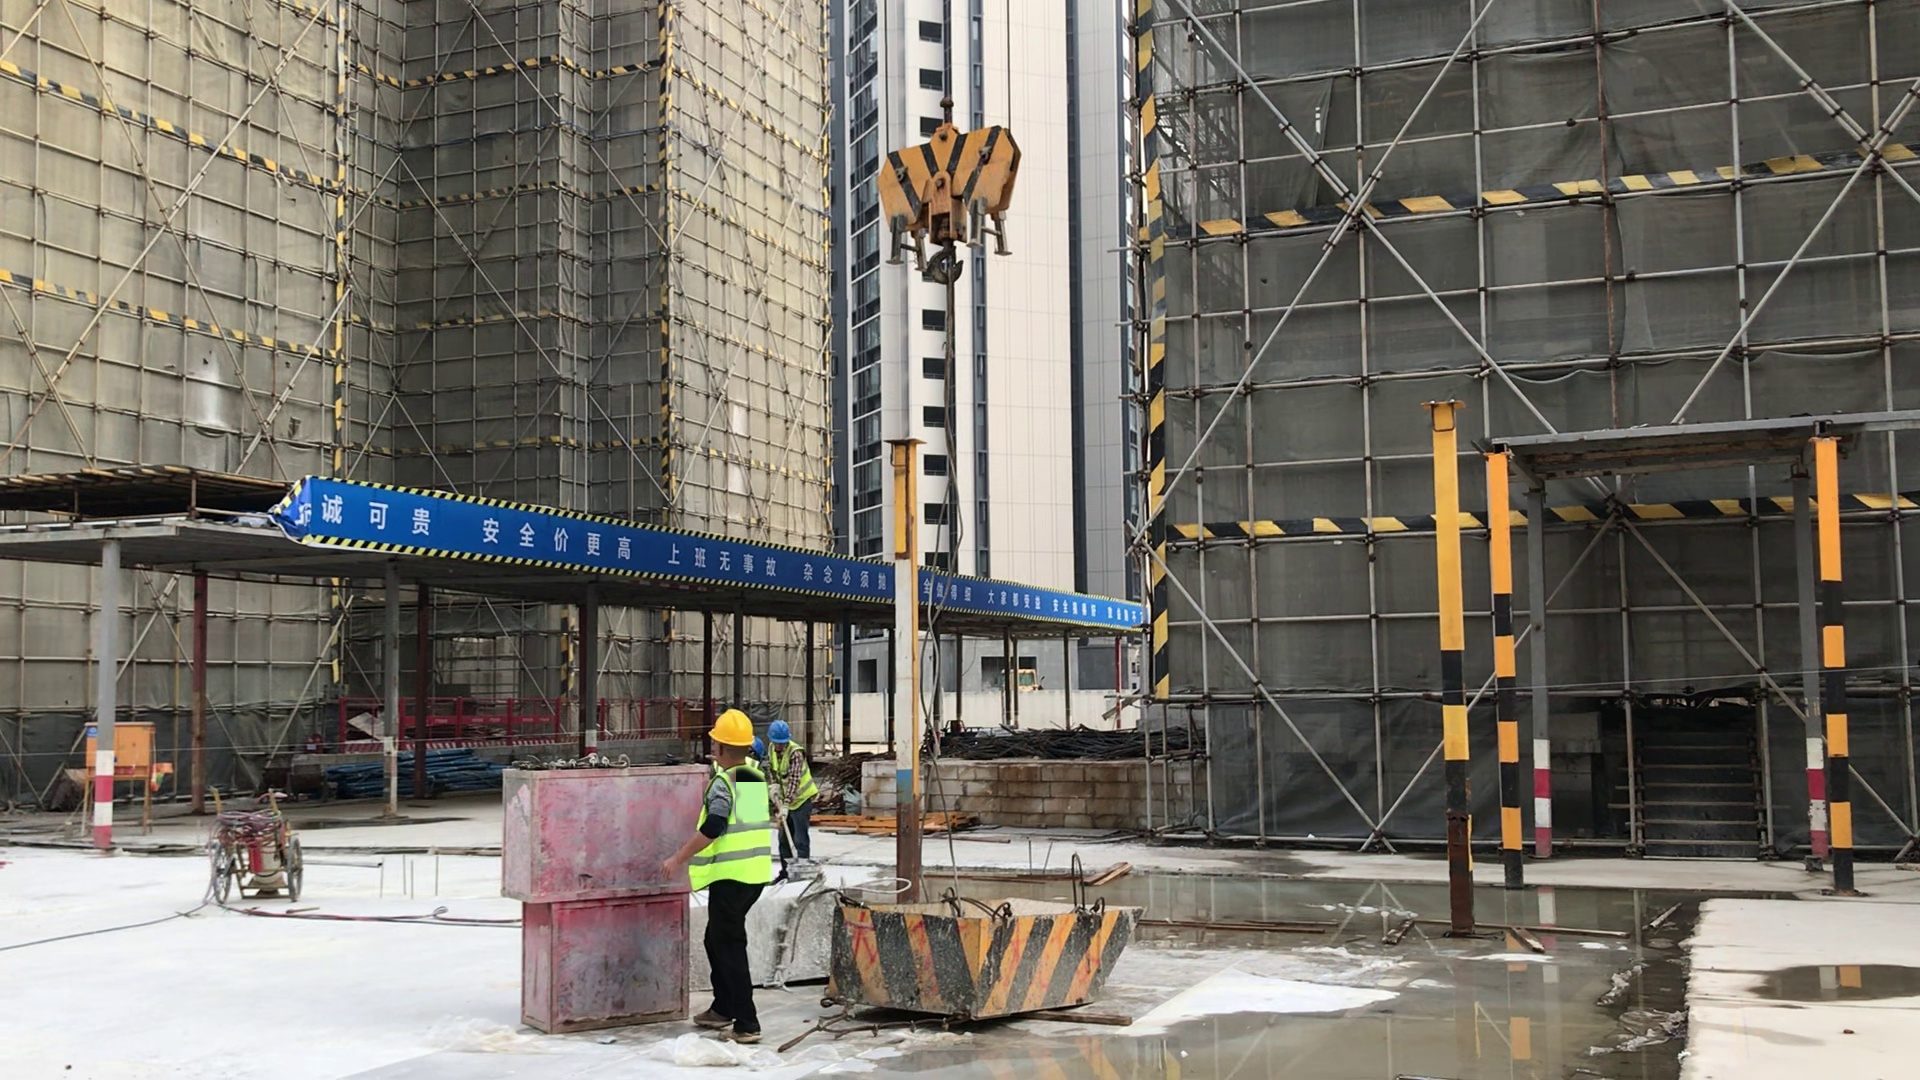ebox: (75, 713, 164, 793)
fence: (312, 679, 737, 752)
handcart: (207, 786, 308, 916)
helmet: (706, 712, 758, 758), (767, 719, 792, 737)
hook: (866, 115, 1030, 271)
hopper: (829, 882, 1129, 1019)
person: (686, 704, 773, 1043), (757, 710, 802, 888)
slogan: (254, 456, 1143, 649)
vest: (707, 772, 774, 900), (759, 753, 825, 820)
